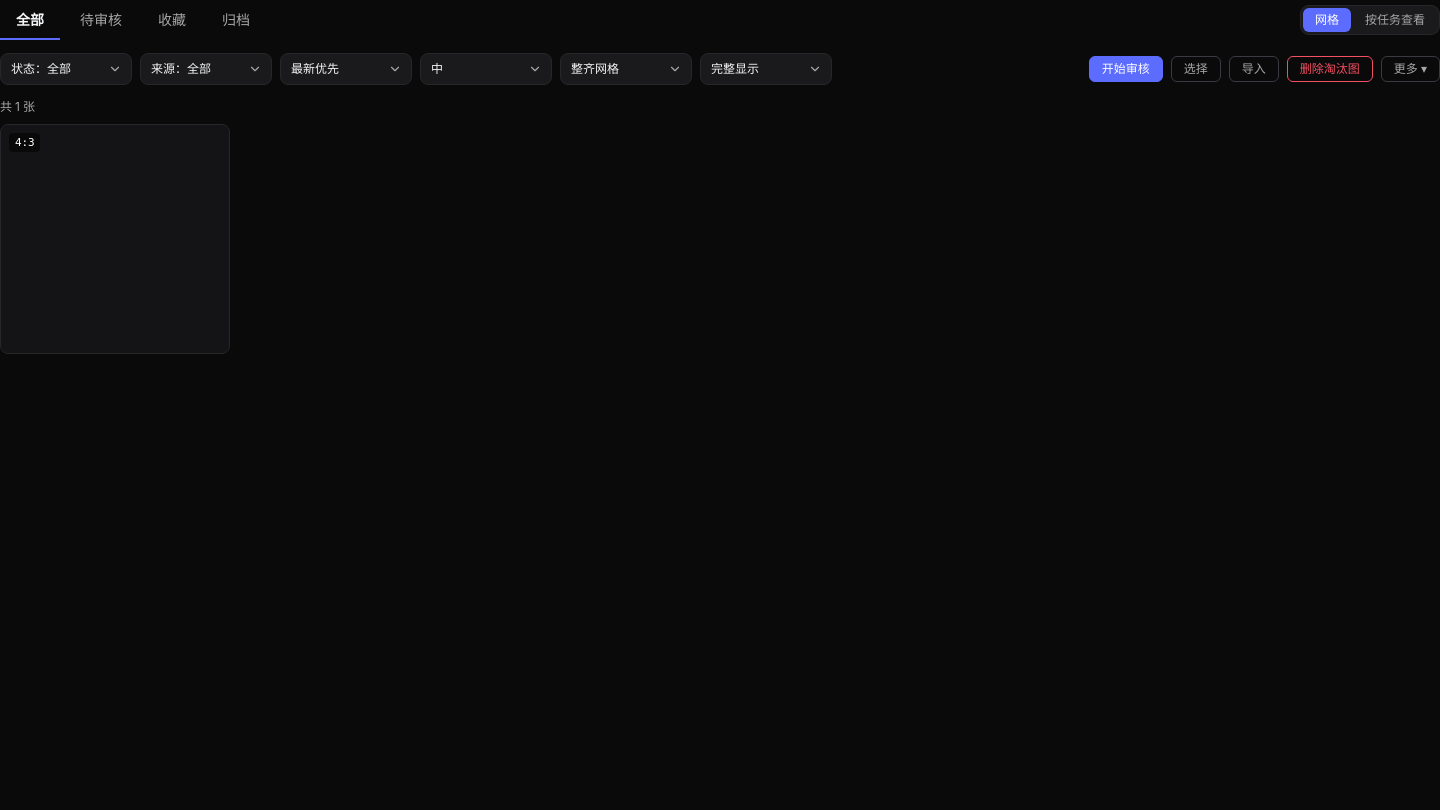
ImageDetail 详情信息栏与操作 › REJECT 图永久删除时被引用保护则禁止删除并提示（不真删）
The image size is (1440, 810).
Expected: the text "共 1 张" is shown, [0, 99, 35, 114]
Click the element with class "gal-card" at (115, 239), box [0, 124, 230, 354]
(page scrolled)
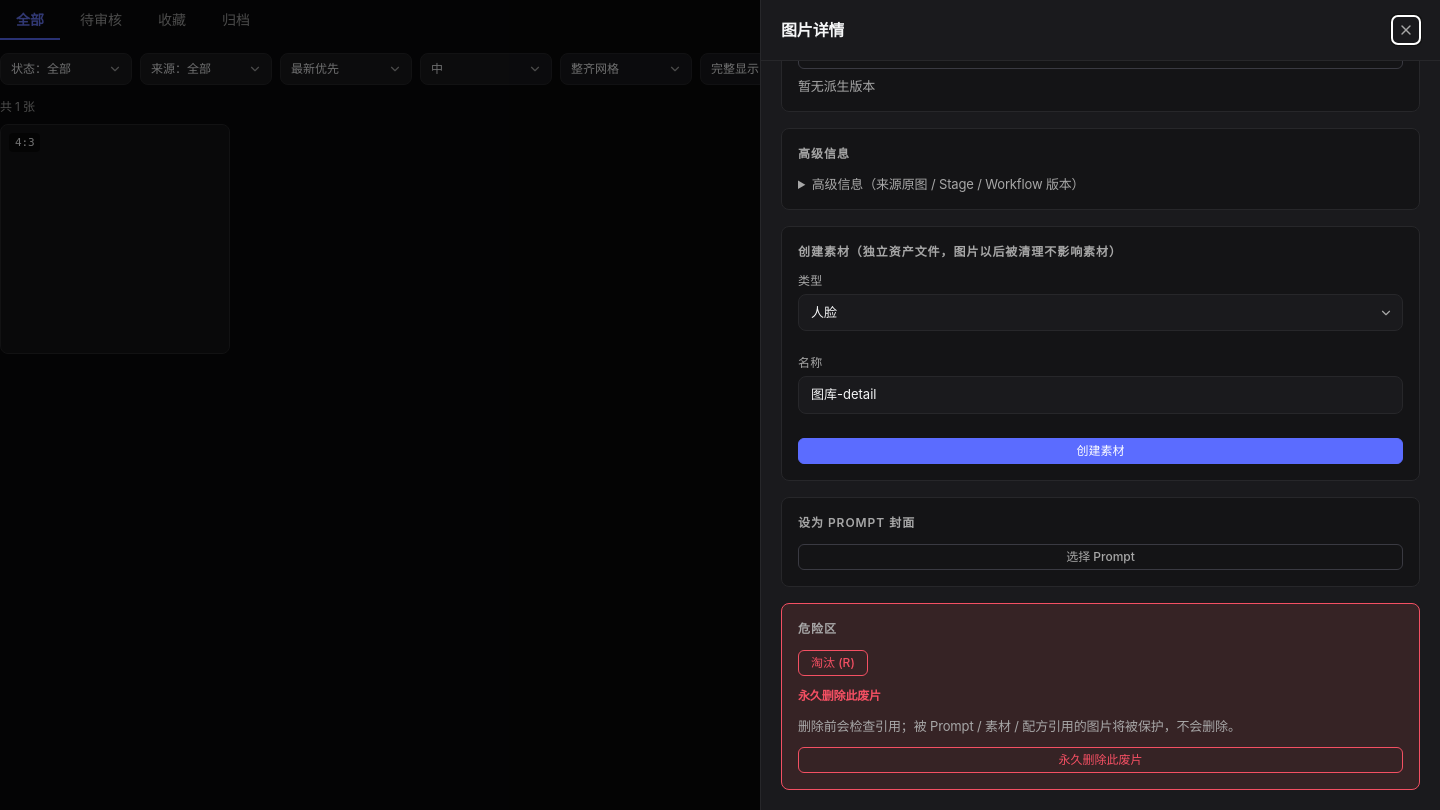
Result: the heading "图片详情" is shown at [781, 19, 844, 41]
# REJECT 图才显示「永久删除此废片」
Click the button "永久删除此废片" at (1100, 760), box [798, 747, 1403, 773]
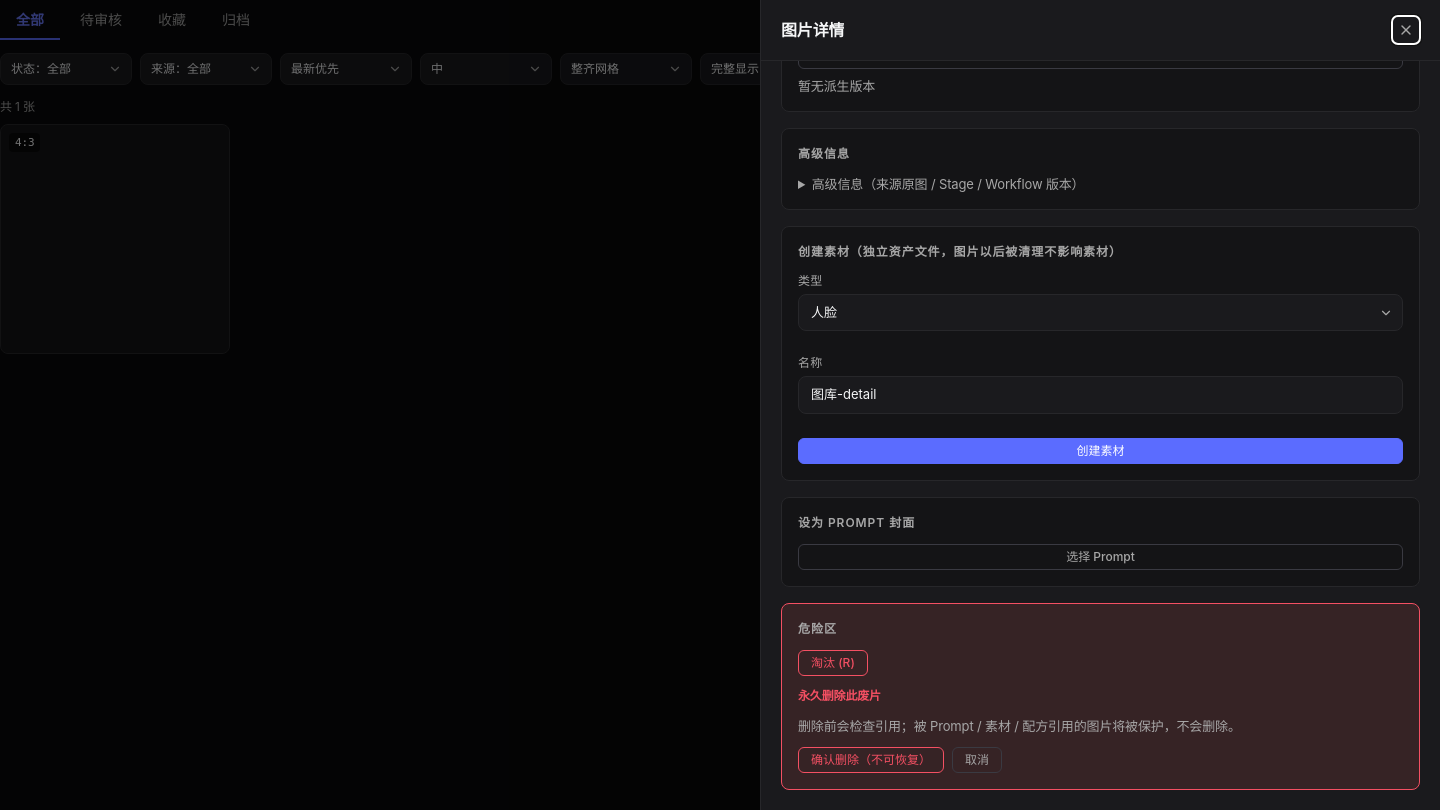
Click the button "确认删除（不可恢复）" at (871, 760), box [798, 747, 944, 773]
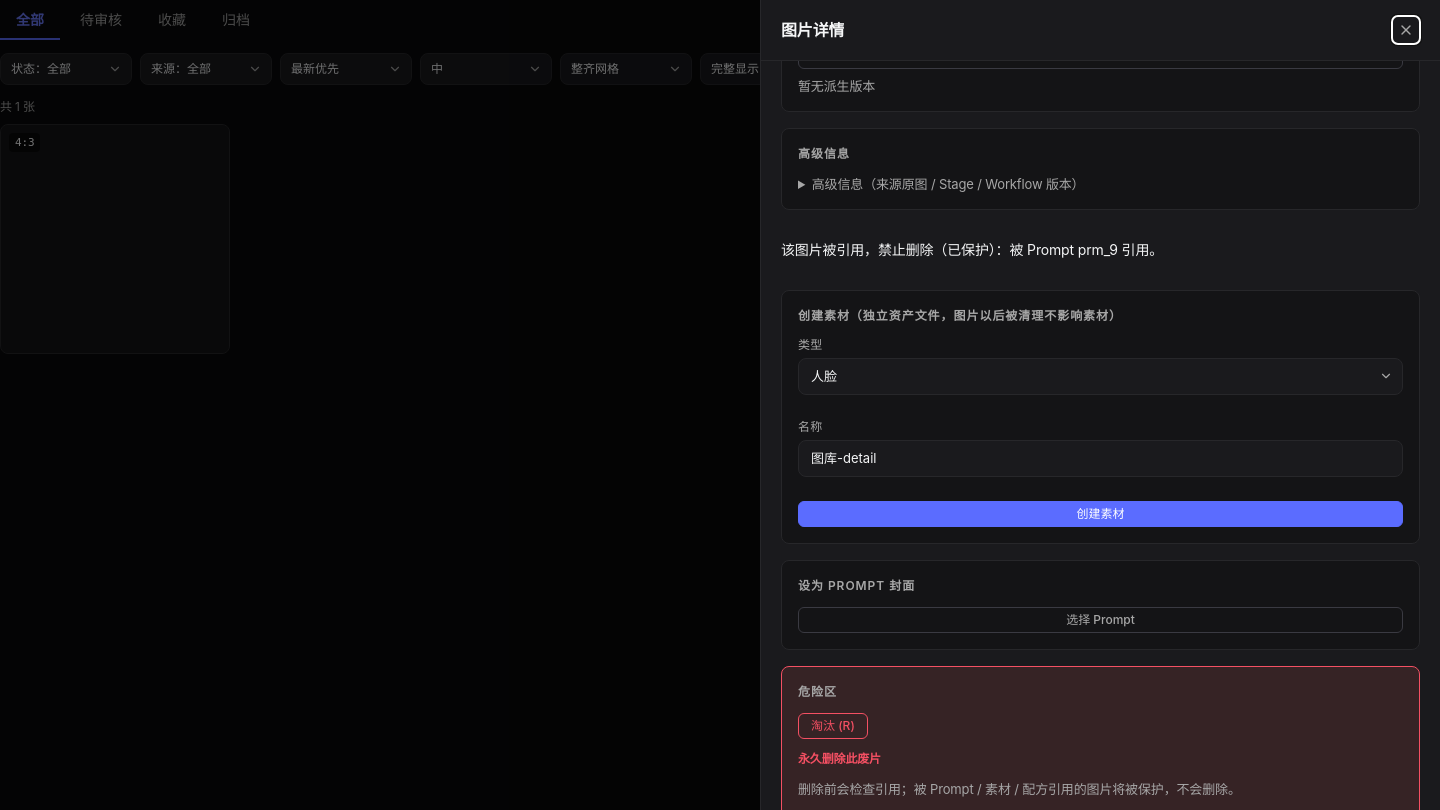
Result: the text "该图片被引用，禁止删除（已保护）：被 Prompt prm_9 引用。" is shown at [781, 241, 1163, 258]
